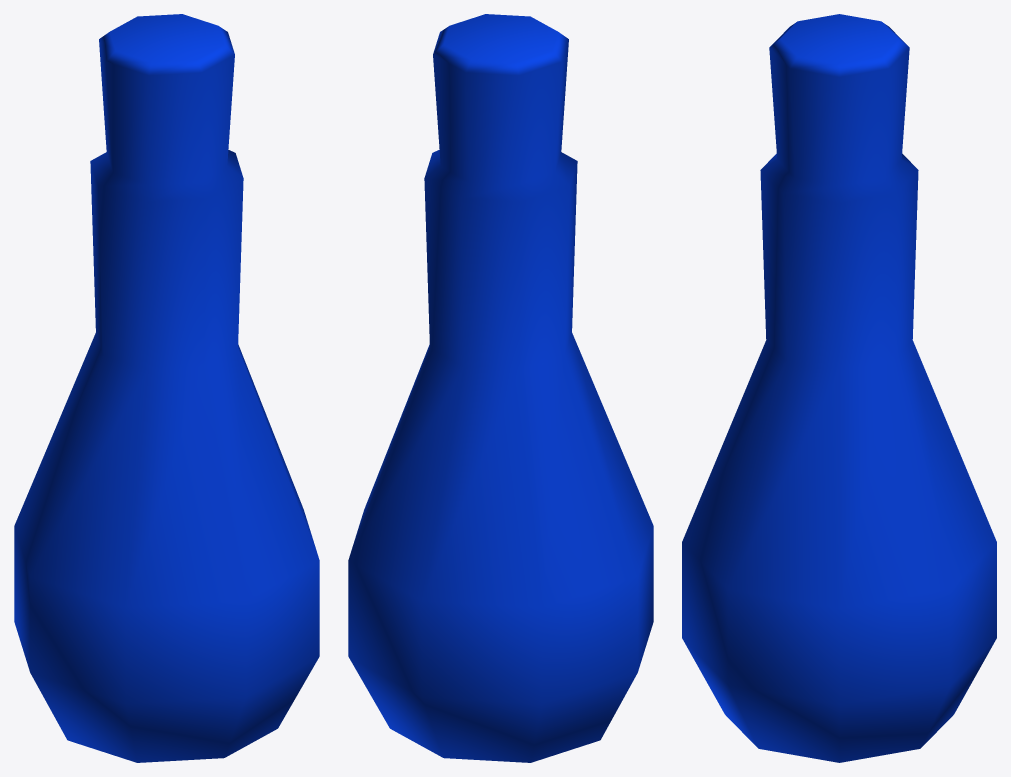
The model's file is Potion_01.fbx.
The picture shows the model from 3 angles, left to right: view 1: azimuth 30°, elevation 25°; view 2: azimuth 150°, elevation 25°; view 3: azimuth 270°, elevation 25°; orthographic projection.
Visible parts, largest first — view 1: Potion_01; view 2: Potion_01; view 3: Potion_01.
Boxes of the visible parts, x1=… form: Potion_01: x1=14, y1=14, x2=319, y2=762; Potion_01: x1=348, y1=14, x2=653, y2=762; Potion_01: x1=682, y1=14, x2=996, y2=762.
Size of the model in its own units: 13.84 by 32.77 by 13.84.
